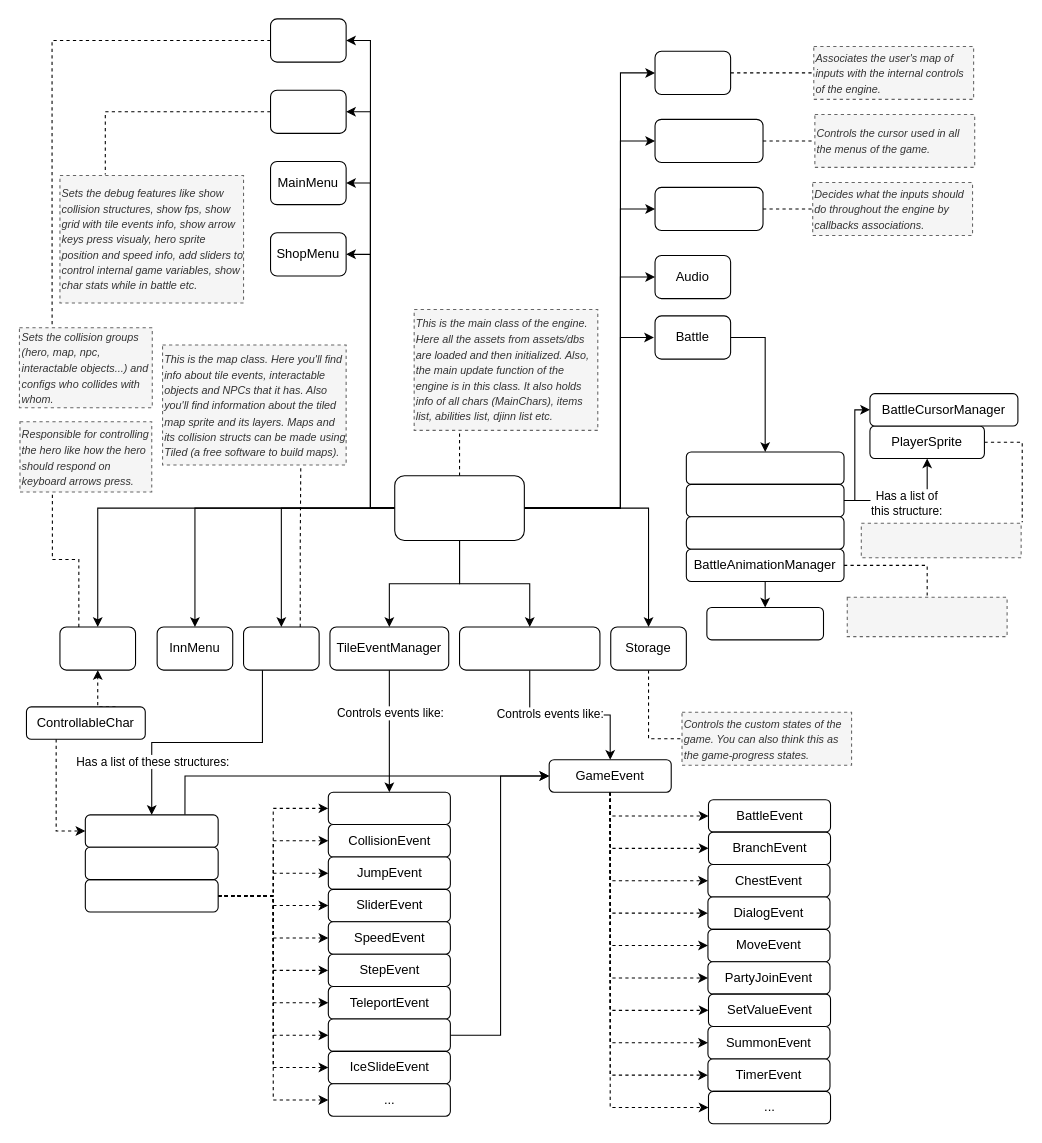
This 1042x1143 diagram has some shape labels left out. Here are the shapes that lost their labels. From the top down, the centre of each, then its label:
pixel 307 40: Collision
pixel 692 72: Gamepad
pixel 307 111: Debug
pixel 708 140: CursorManager
pixel 708 208: ControlManager
pixel 764 467: MainBattleMenu
pixel 459 508: GoldenSun
pixel 764 500: BattleStage
pixel 764 532: BattleLogs
pixel 940 540: The player battle sprite. Can be enemy or ally.
pixel 765 623: BattleAnimation
pixel 926 616: Controls the animations of the abilities in battle.
pixel 97 648: Hero
pixel 280 648: Map
pixel 529 648: GameEventManager
pixel 388 808: ClimbEvent
pixel 151 830: NPC
pixel 151 863: InteractableObject
pixel 151 895: TileEvent
pixel 388 1034: EventTriggerEvent
